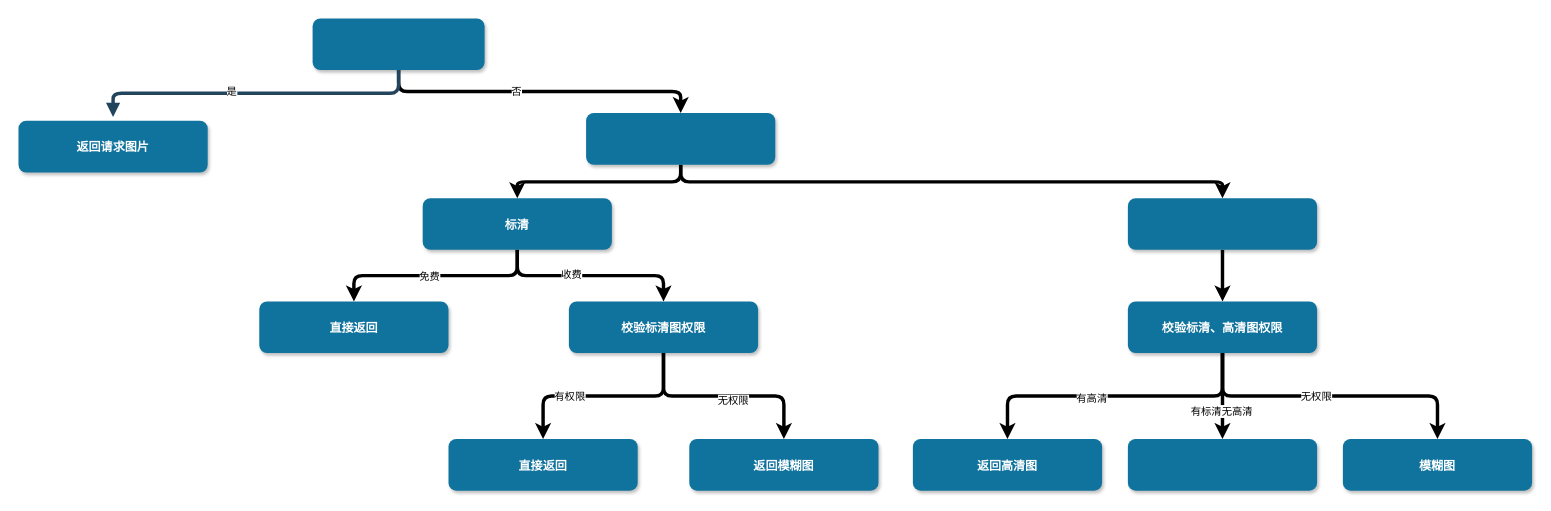
Image size: 1551x511. Some labels were removed from this diagram. Here are the shapes that lost their labels. From the top down, the centre of each, then its label:
the point at 399,45: 是否购买
the point at 681,139: 校验清晰度
the point at 1223,224: 高清
the point at 1223,465: 返回标清图
